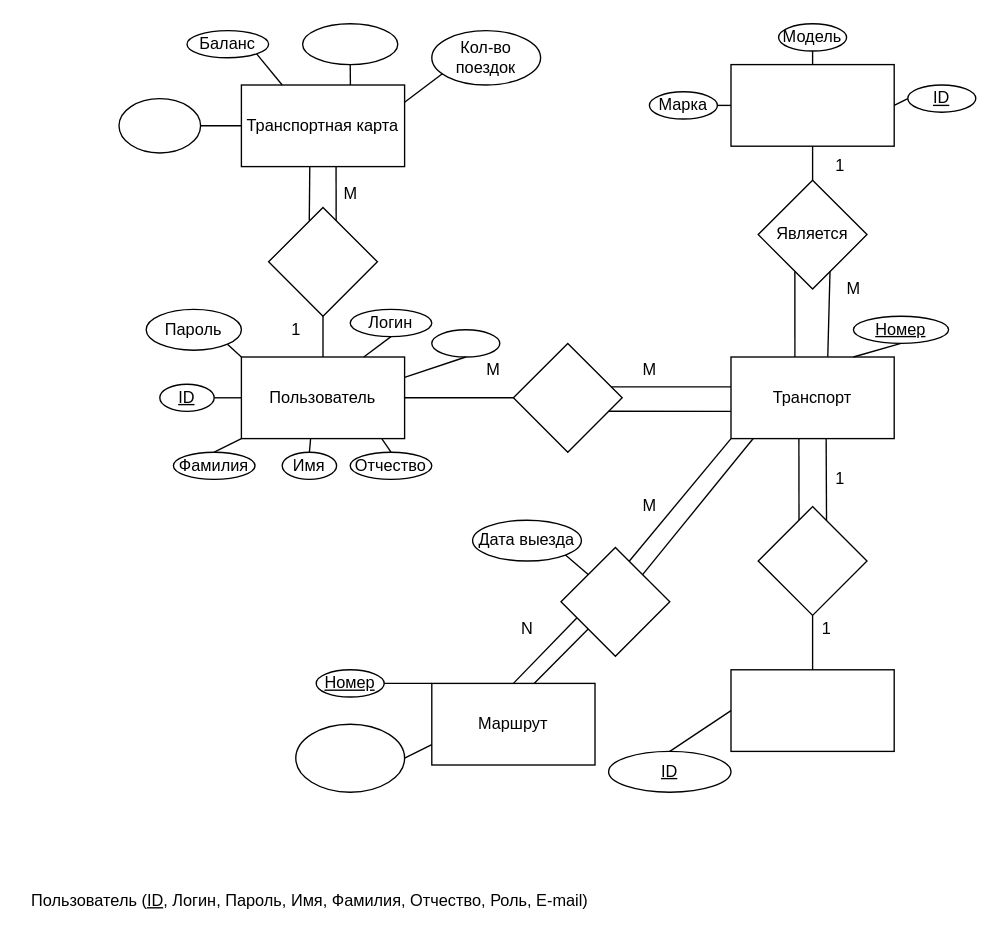
The diagram is 1000 pixels wide and 938 high, and some of its shapes have lost their labels. Each missing label, with the centre of its shape:
"ID карты" belongs at (x=159, y=125).
"Водит" belongs at (x=812, y=560).
"Водитель" belongs at (x=812, y=709).
"Дата выдачи" belongs at (x=349, y=43).
"Кол-во рейсов в сутки" belongs at (x=349, y=757).
"Пользуется" belongs at (x=567, y=397).
"Пополняет" belongs at (x=322, y=261).
"Работает на" belongs at (x=615, y=601).
"Роль" belongs at (x=465, y=342).
"Транспортное средство" belongs at (x=812, y=104).
